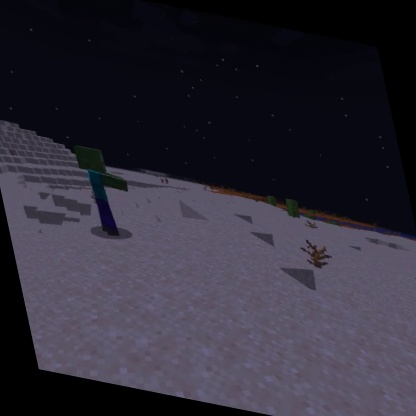zombie: (68, 140, 145, 247)
